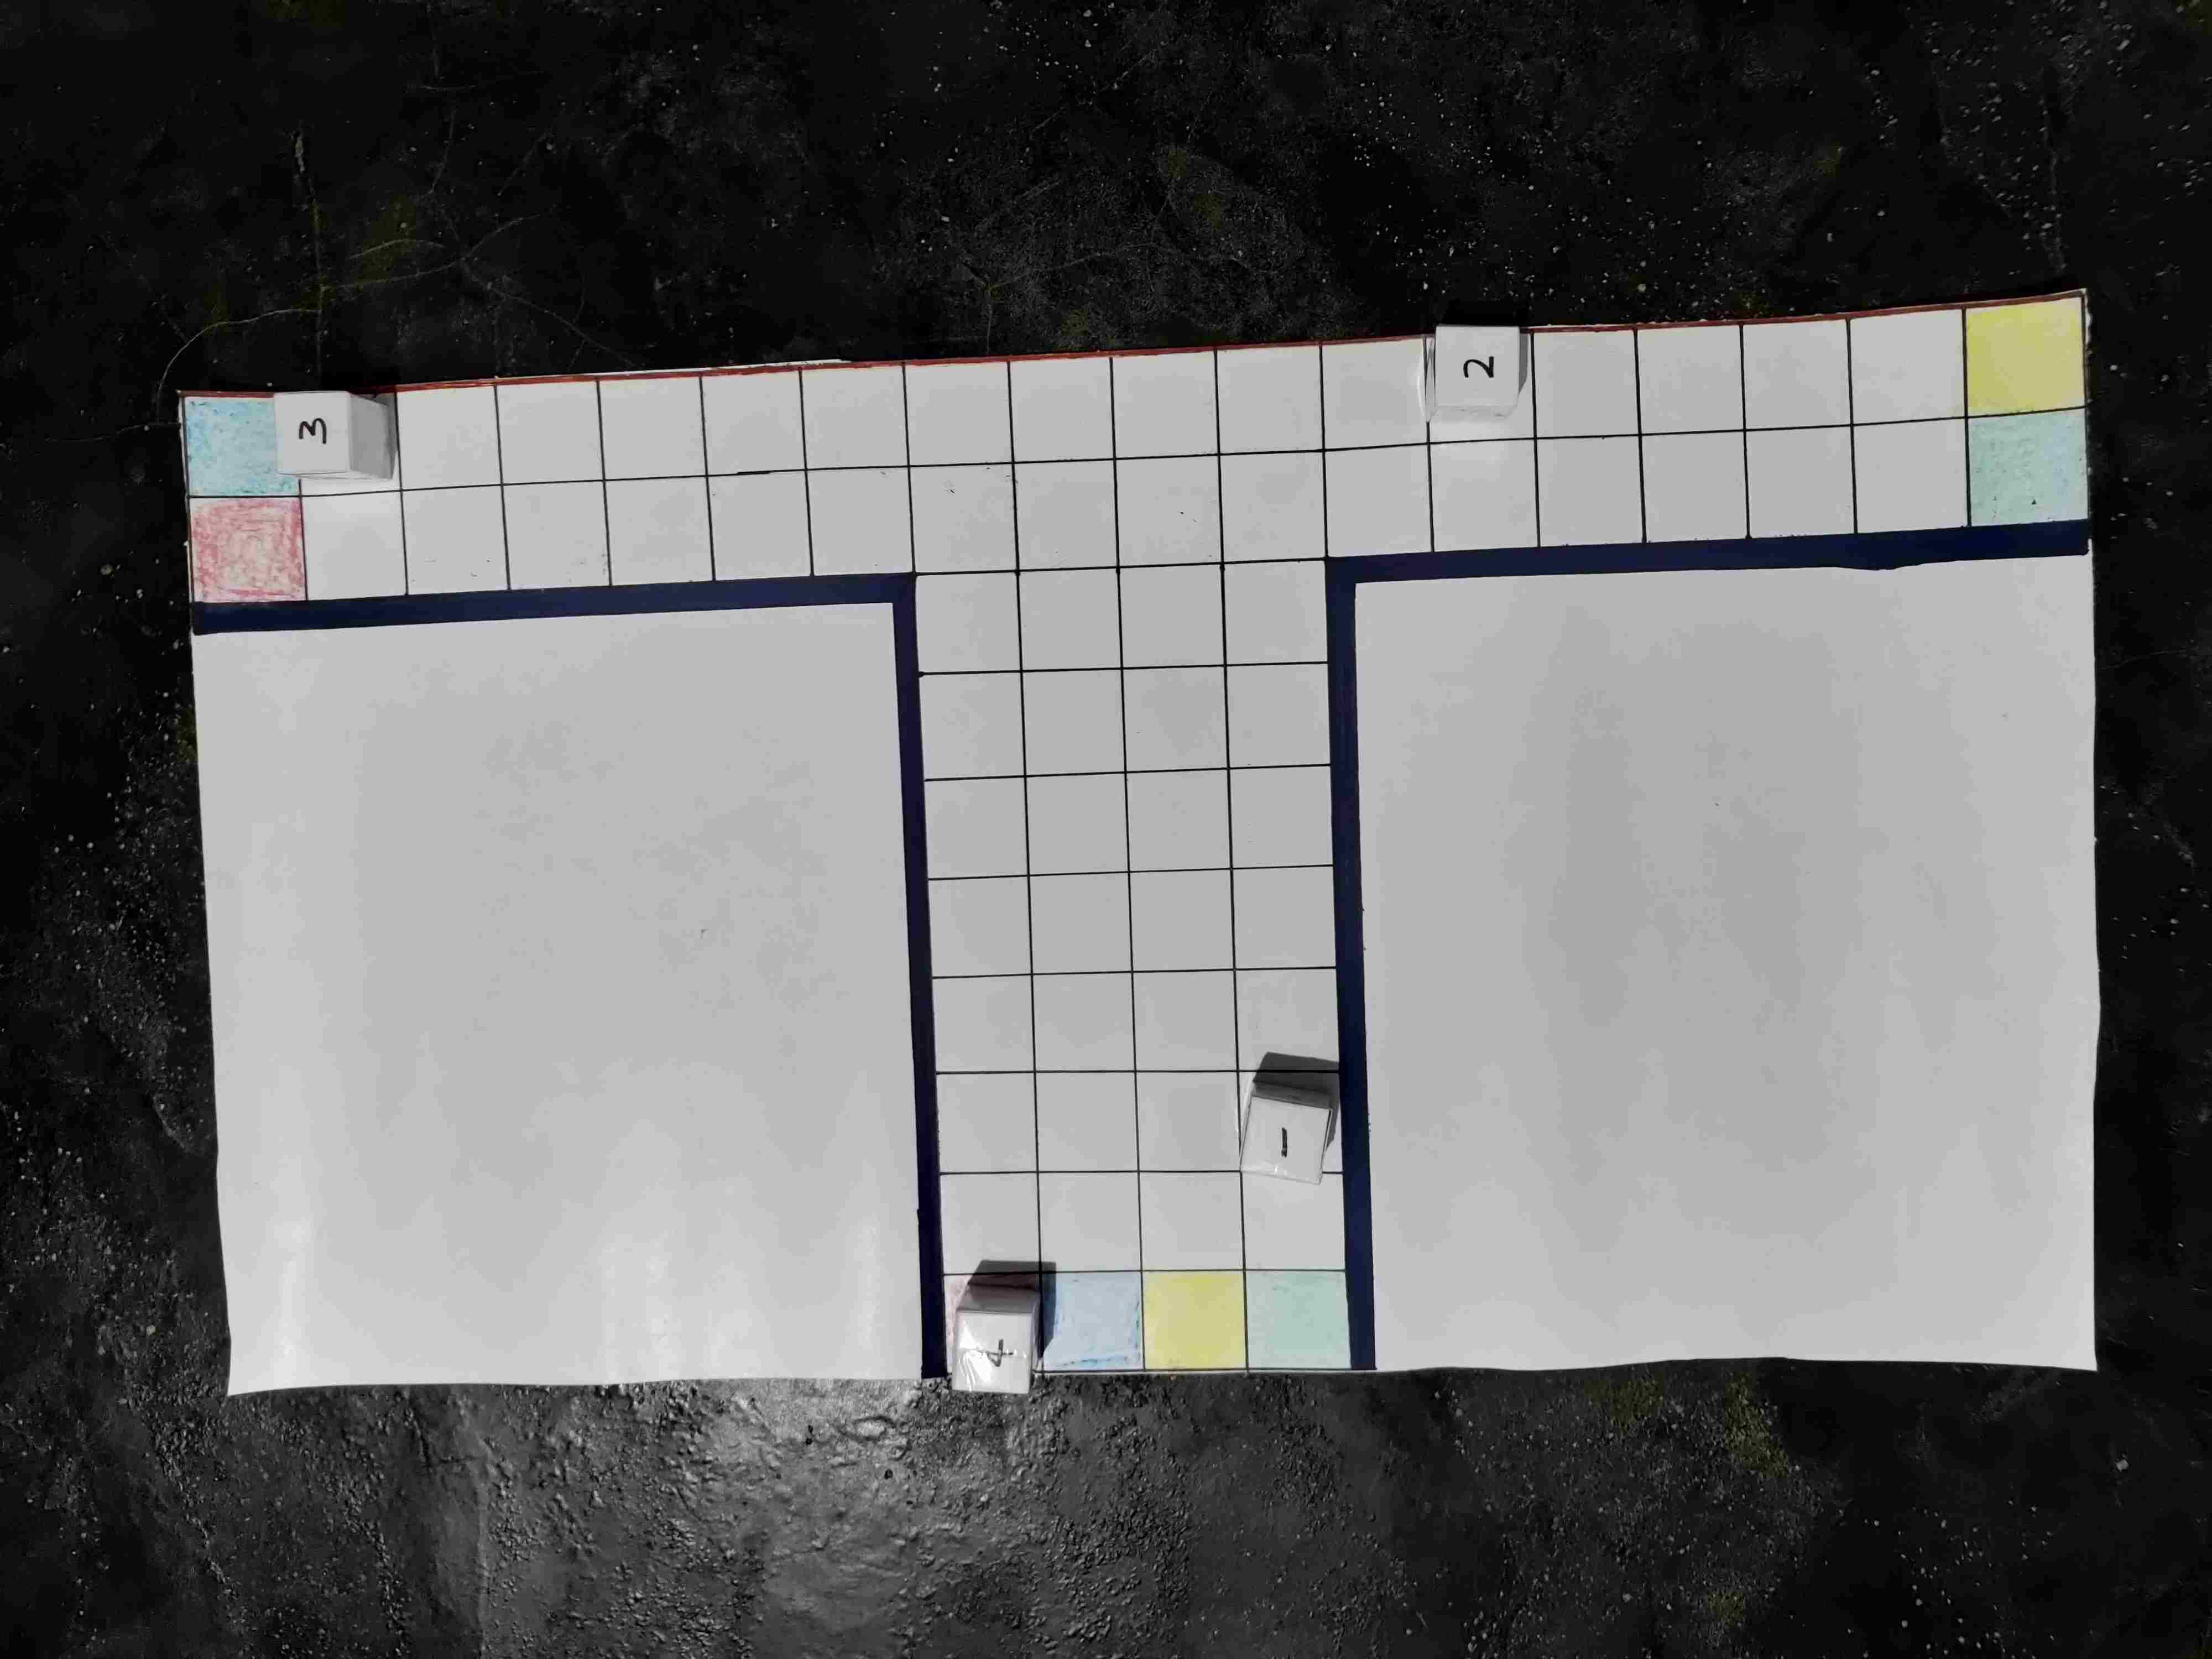arena: (174, 298, 2090, 1377)
bot: (1238, 1096, 1327, 1182), (1439, 321, 1526, 403), (960, 1307, 1036, 1396), (277, 392, 354, 479)
